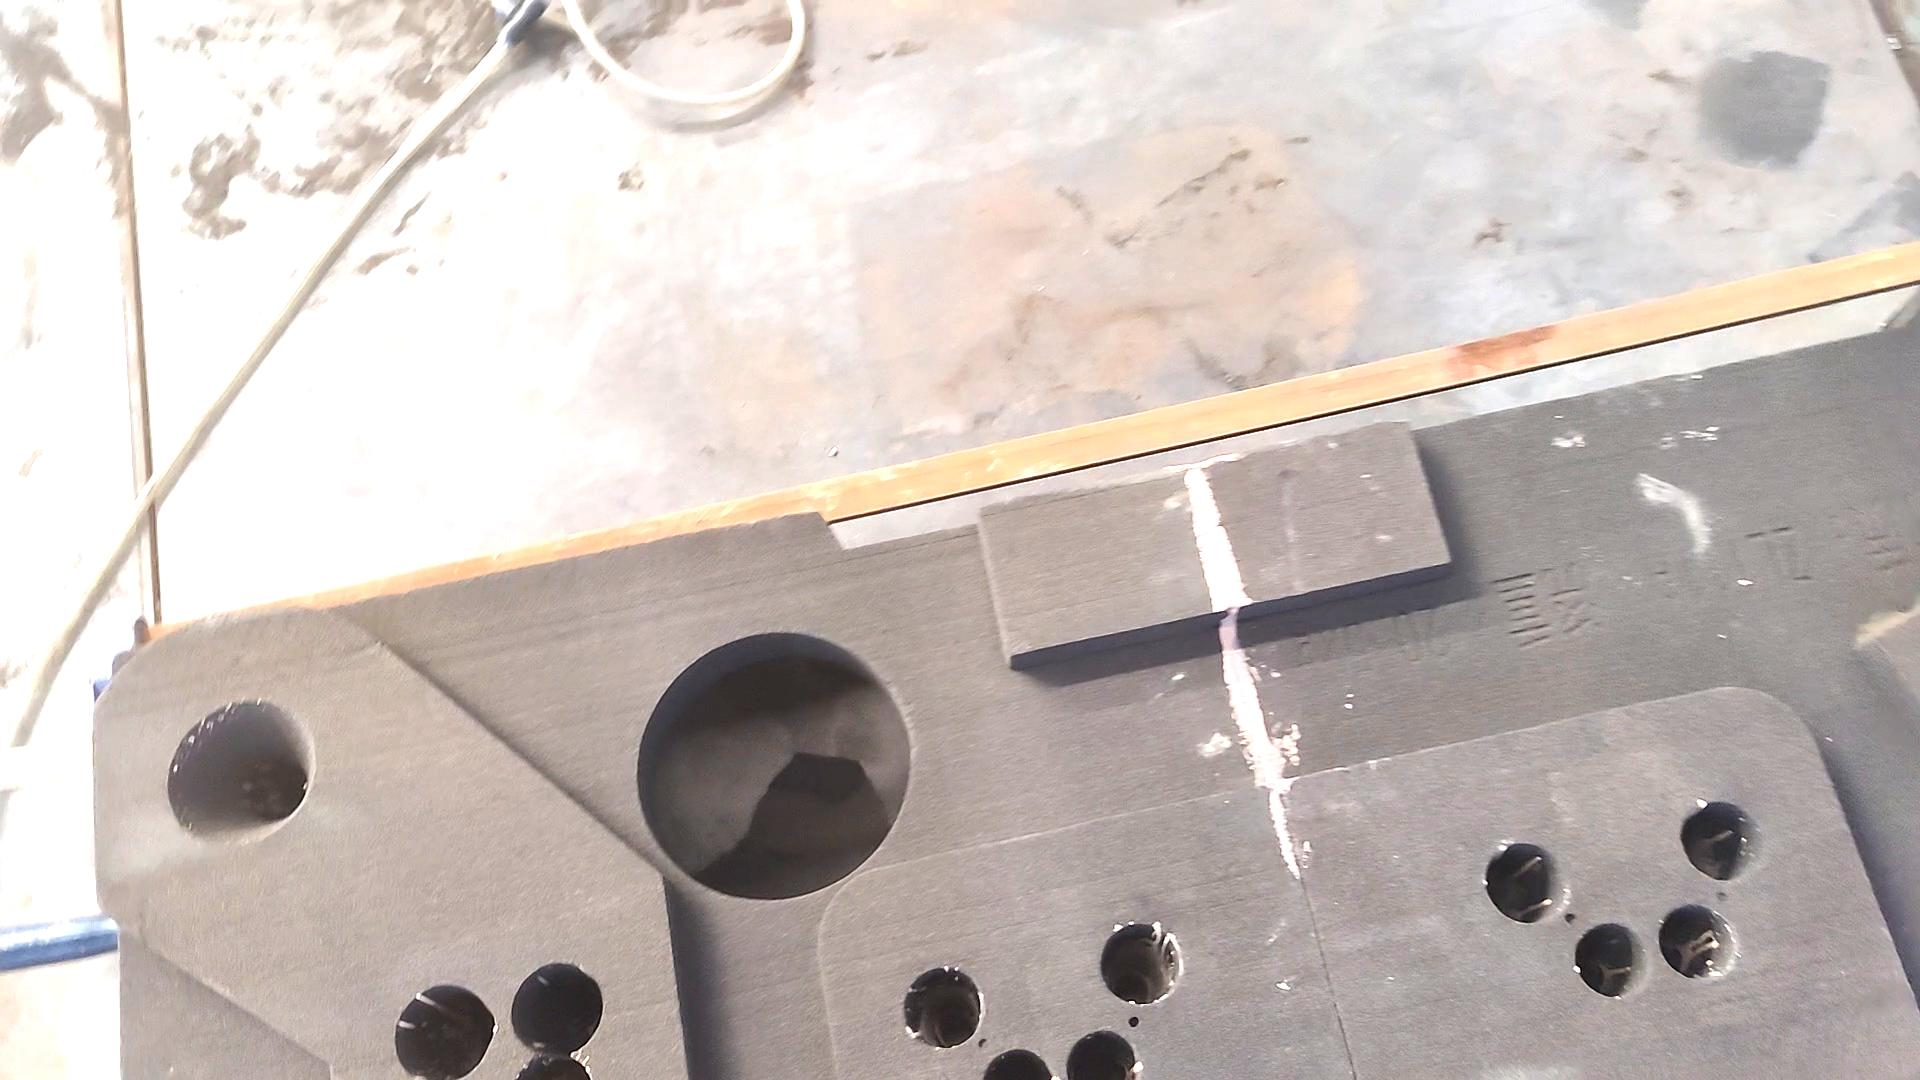pouring hole: (167, 702, 316, 843)
